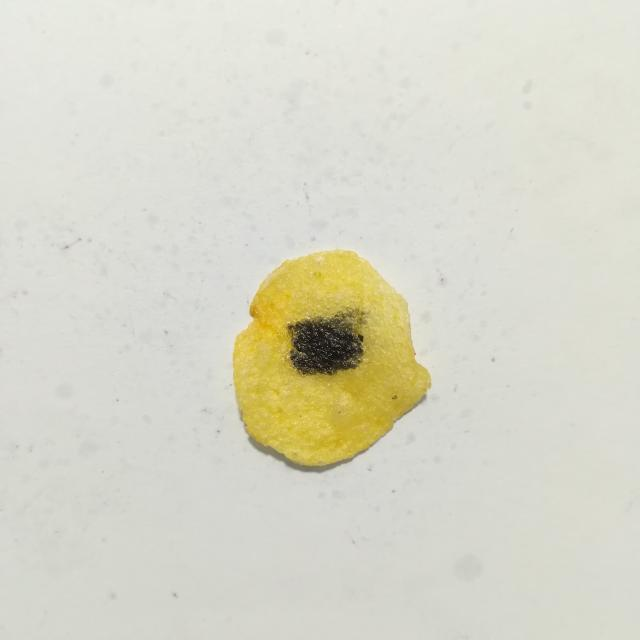chip: (233, 250, 431, 466)
damaged: (287, 308, 367, 374)
